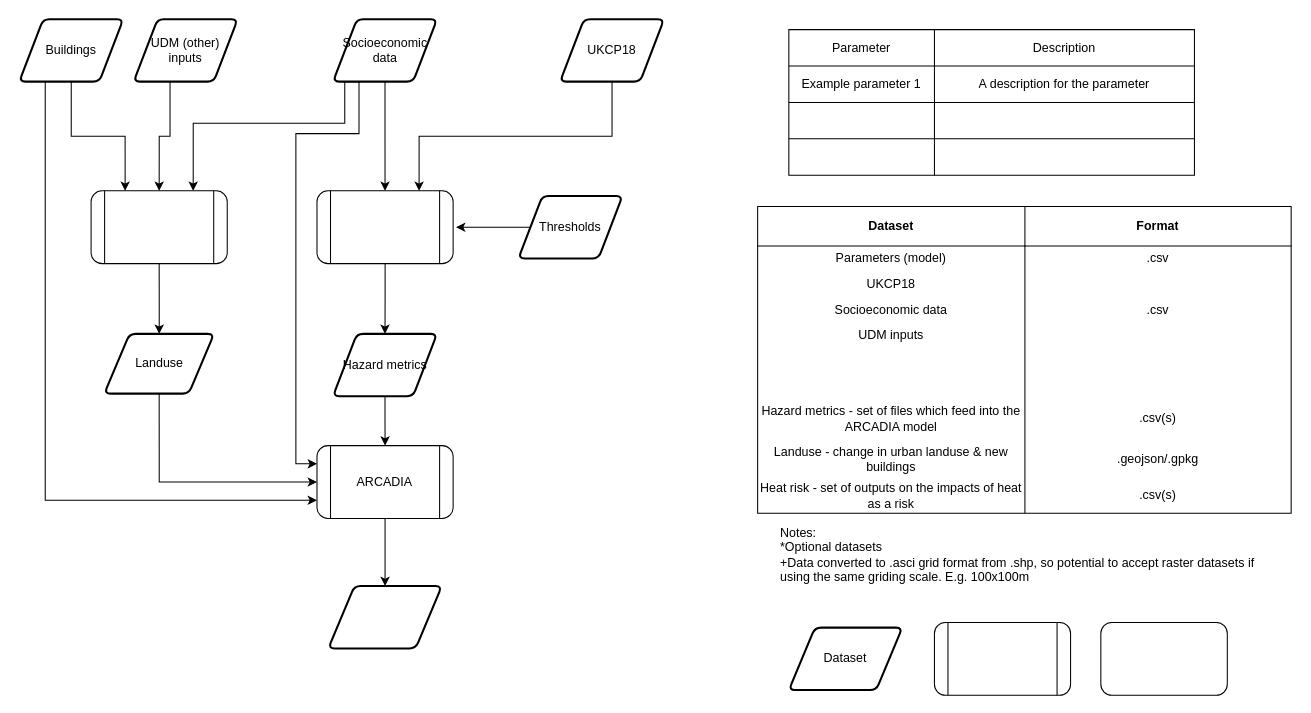
Some shapes in this 1311 by 713 pixel diagram are drawn without their labels. The centre of each missing label's shape, as x and y in pixels:
"HEAT" belongs at (384,227).
"Heat risk" belongs at (384,616).
"Model/process (already developed)" belongs at (1002,658).
"Model/process not developed" belongs at (1163,658).
"UDM" belongs at (158,227).
